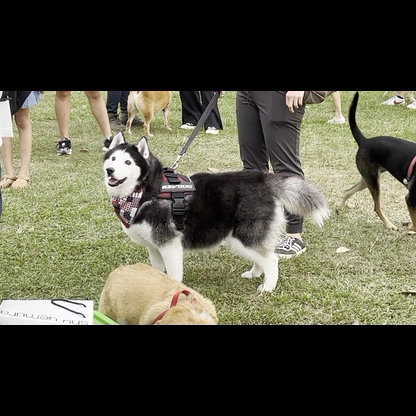husky: (98, 126, 333, 300)
